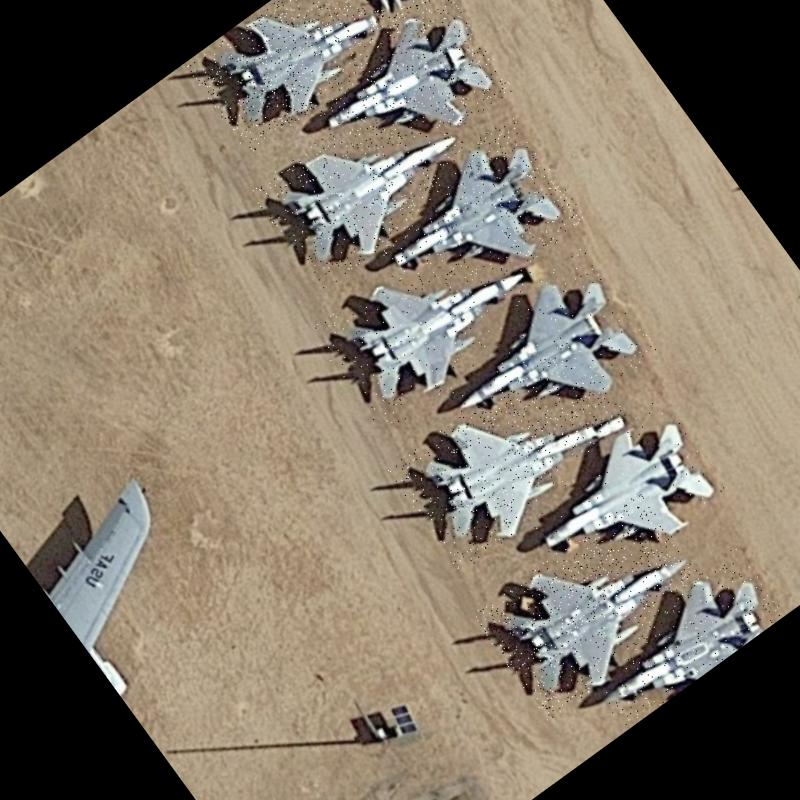A13: (386, 336, 644, 573), (307, 203, 557, 434), (470, 490, 718, 722), (422, 246, 661, 470), (248, 71, 486, 291), (361, 114, 588, 329), (512, 394, 734, 601), (296, 0, 517, 191), (574, 544, 785, 730), (185, 0, 406, 155)
